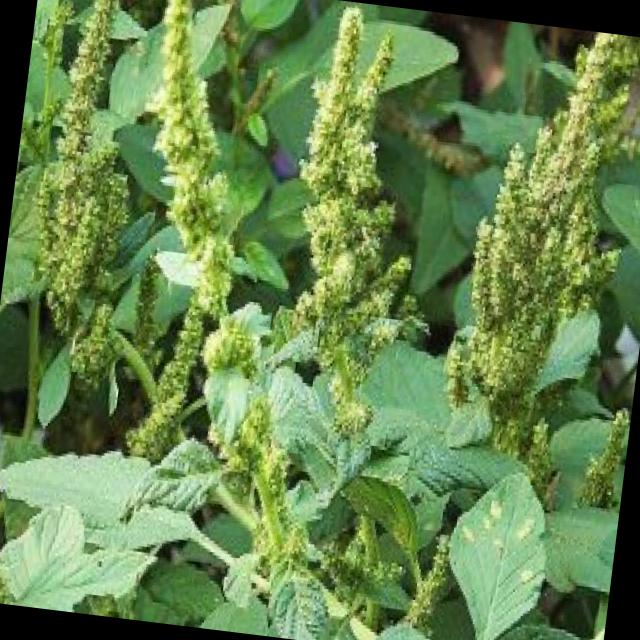Medicinal-Arive Dantu: (210, 8, 513, 640), (410, 20, 640, 640), (0, 0, 284, 467)
